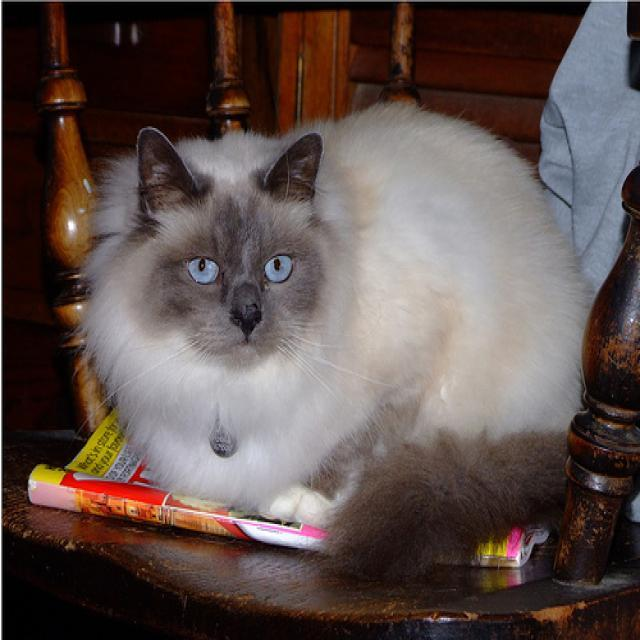Birman: (96, 120, 350, 401)
